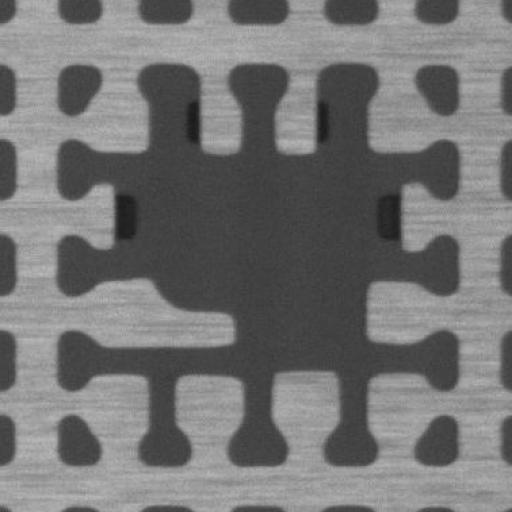NO_DIE: (48, 60, 464, 464)
